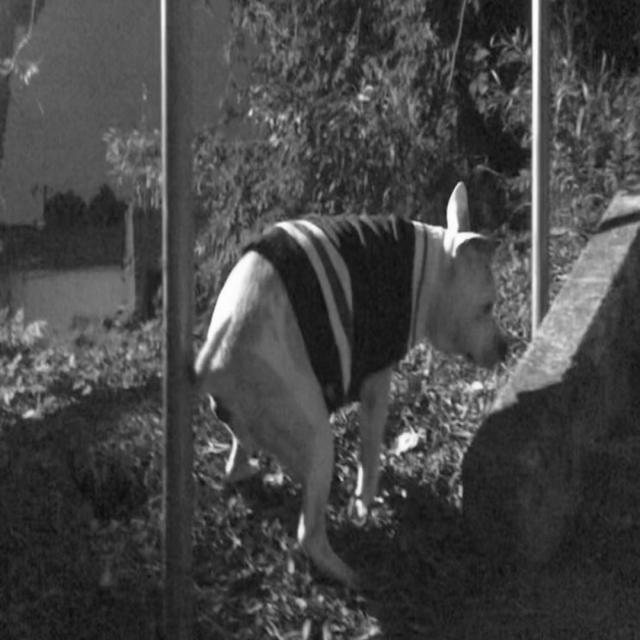squatting: (188, 175, 518, 595)
